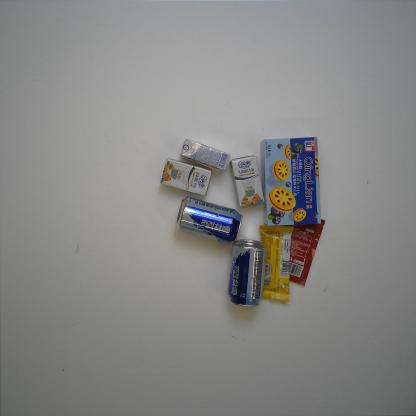Alcohol: (175, 196, 243, 244), (227, 238, 267, 308)
Chocolate: (258, 224, 294, 302)
Dessert: (260, 136, 321, 227)
Milk: (160, 158, 212, 196), (229, 156, 265, 208), (180, 138, 230, 172)
Seasoner: (270, 215, 326, 287)
